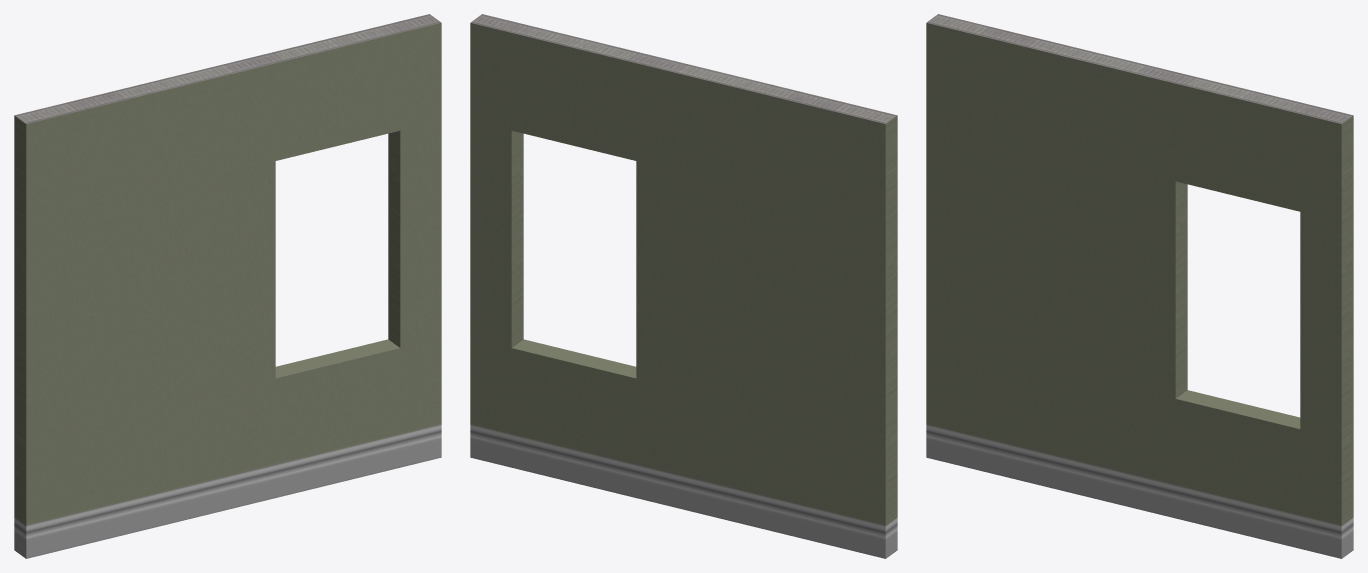
File: wall3_7.fbx
3 renders of one model, left to right at view 1: azimuth 30°, elevation 25°; view 2: azimuth 150°, elevation 25°; view 3: azimuth 330°, elevation 25°, orthographic.
Parts seen in each view (by area): view 1: wall3_willow_g; view 2: wall3_willow_g; view 3: wall3_willow_g.
Boxes of the visible parts, x1,y1,x2,y2 form: wall3_willow_g: (14,14,441,558); wall3_willow_g: (470,14,897,558); wall3_willow_g: (926,14,1353,558).
Size of the model in its own units: 400 by 400 by 20.01.
